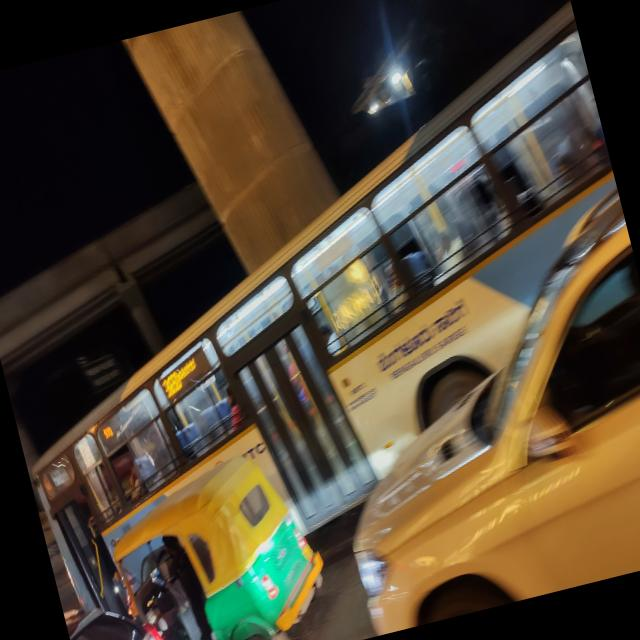bus: (0, 2, 640, 609)
display: (148, 342, 227, 402)
dnumber: (160, 364, 188, 400)
